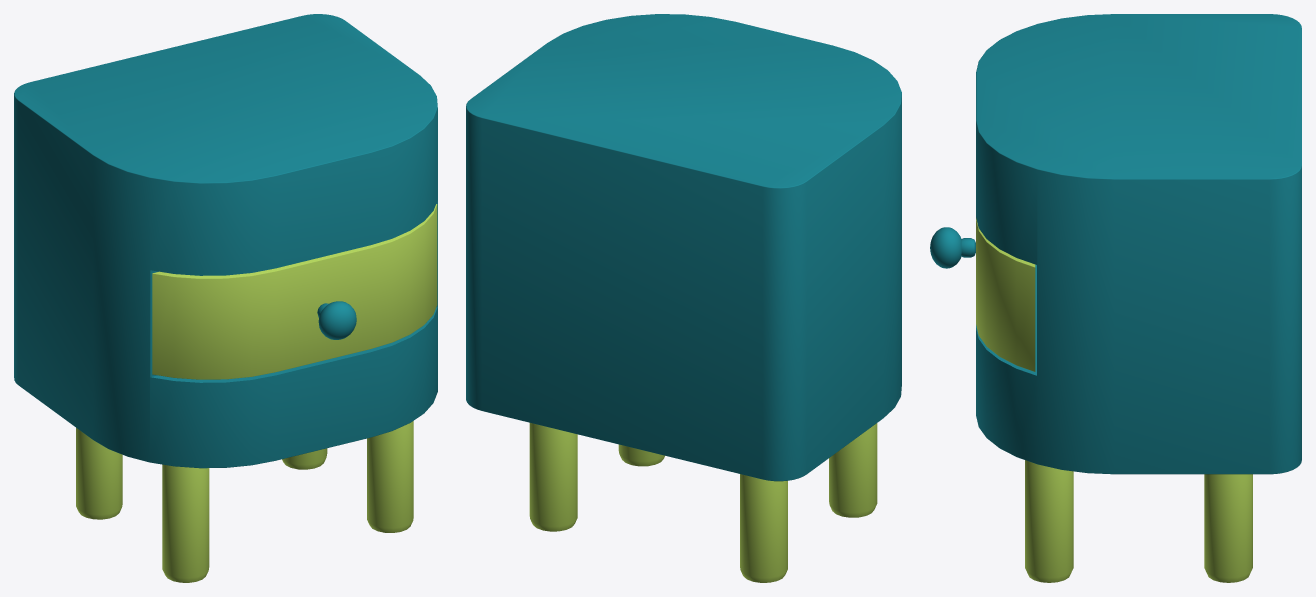
Rendered from criado_capsula_gaveta_petroleo.glb.
The picture shows the model from 3 angles, left to right: view 1: azimuth 30°, elevation 25°; view 2: azimuth 150°, elevation 25°; view 3: azimuth 270°, elevation 25°; orthographic projection. The views are drawn at different scales.
Visible parts, largest first — view 1: criado_capsula_gaveta_petroleo, gaveta_1; view 2: criado_capsula_gaveta_petroleo; view 3: criado_capsula_gaveta_petroleo, gaveta_1.
Part boxes in pixels (bbox=[...]): criado_capsula_gaveta_petroleo: bbox=[14, 14, 437, 582]; gaveta_1: bbox=[152, 204, 437, 379]; criado_capsula_gaveta_petroleo: bbox=[466, 14, 901, 582]; criado_capsula_gaveta_petroleo: bbox=[976, 14, 1301, 582]; gaveta_1: bbox=[930, 217, 1035, 371].
Bounding box in the file's own units: 0.48 × 0.58 × 0.4564.
Materials: 1 (1 with a texture image).
